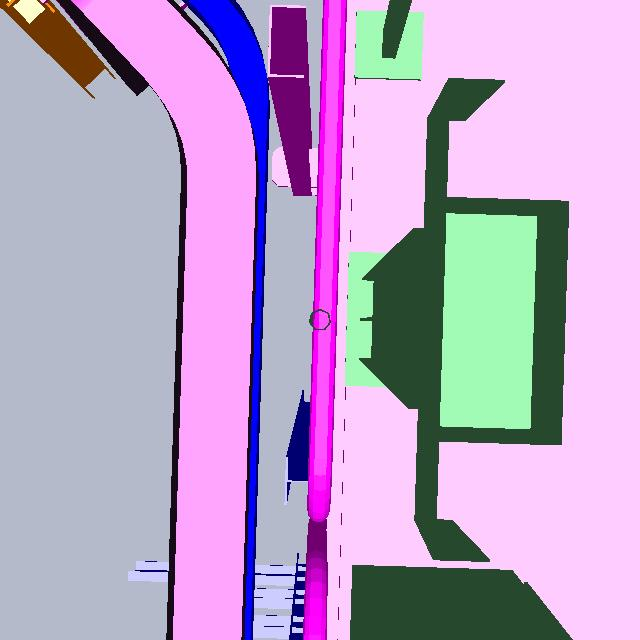Poste: (302, 304, 338, 339)
Soporte: (238, 1, 348, 197)
